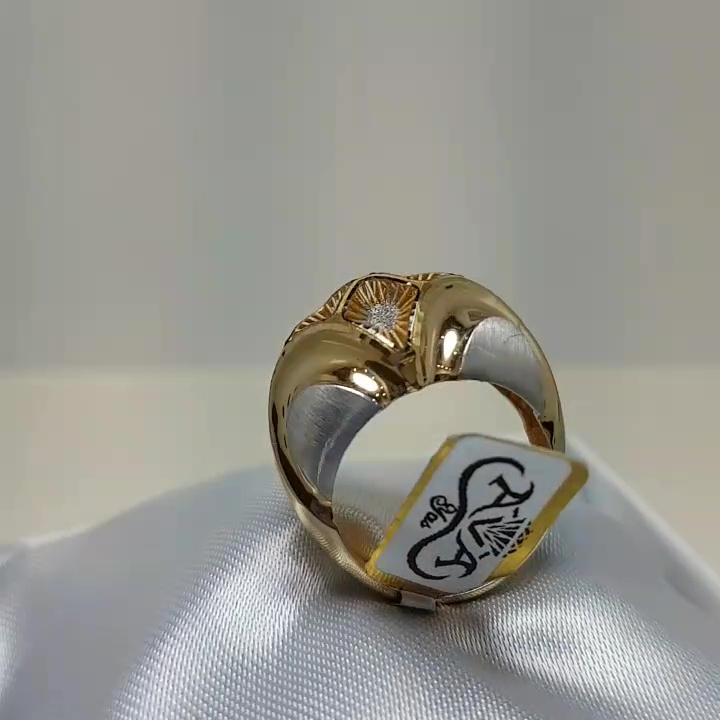Ring 2: (236, 238, 578, 643)
